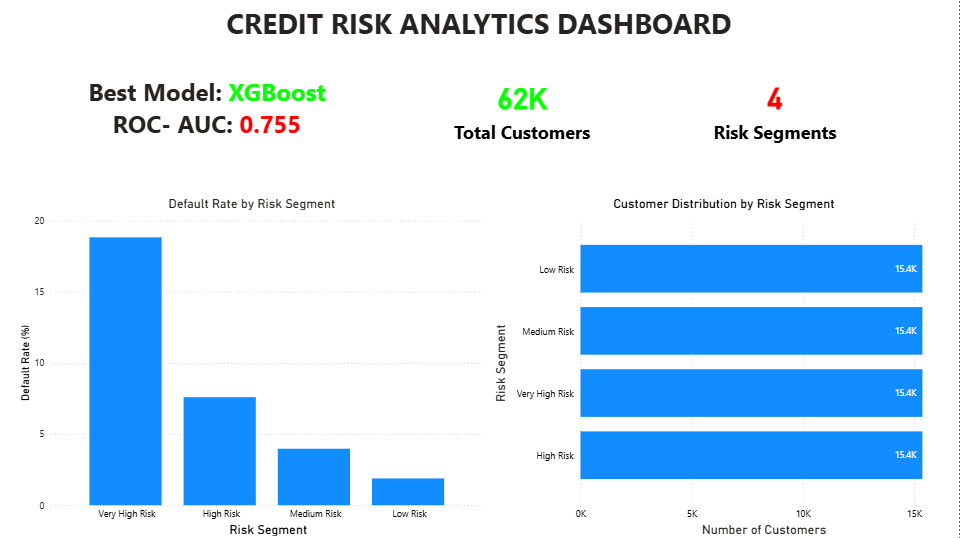

The dashboard page shown, as its layout file describes it:
{"tool":"powerbi","page":{"name":"Page 1","canvas":[1280,720],"ordinal":0},"visuals":[{"type":"textbox","box":[0,0,1280,71.7],"z":0},{"type":"card","fields":{"Values":["Sum(risk_bucket_summary.Customer_Count)"]},"box":[540,85,315,116.7],"z":1000},{"type":"card","fields":{"Values":["Count(risk_bucket_summary.Risk_Bucket)"]},"box":[918.3,85,231.7,116.7],"z":2000},{"type":"textbox","box":[48.3,95,458.3,116.7],"z":3000},{"type":"clusteredBarChart","title":"Customer Distribution by Risk Segment","fields":{"Category":["risk_bucket_summary.Risk_Bucket"],"Y":["Sum(risk_bucket_summary.Customer_Count)"]},"box":[653.3,261.7,626.7,458.3],"z":4000},{"type":"clusteredColumnChart","title":"Default Rate by Risk Segment","fields":{"Category":["risk_bucket_summary.Risk_Bucket"],"Y":["Sum(bucket_default_rate.Default_Rate)"]},"box":[21.7,261.7,631.7,458.3],"z":5000}]}

Visuals, with their boxes in screenshot pixels (x1, y1, x2, y2), scaled from the page's 1280x720 canvas onto the 960x538 screenshot:
textbox: [0, 0, 959, 54]
card - Sum(risk_bucket_summary.Customer_Count): [405, 64, 641, 151]
card - Count(risk_bucket_summary.Risk_Bucket): [689, 64, 862, 151]
textbox: [36, 71, 380, 158]
"Customer Distribution by Risk Segment" clusteredBarChart: [490, 196, 959, 537]
"Default Rate by Risk Segment" clusteredColumnChart: [16, 196, 490, 537]
